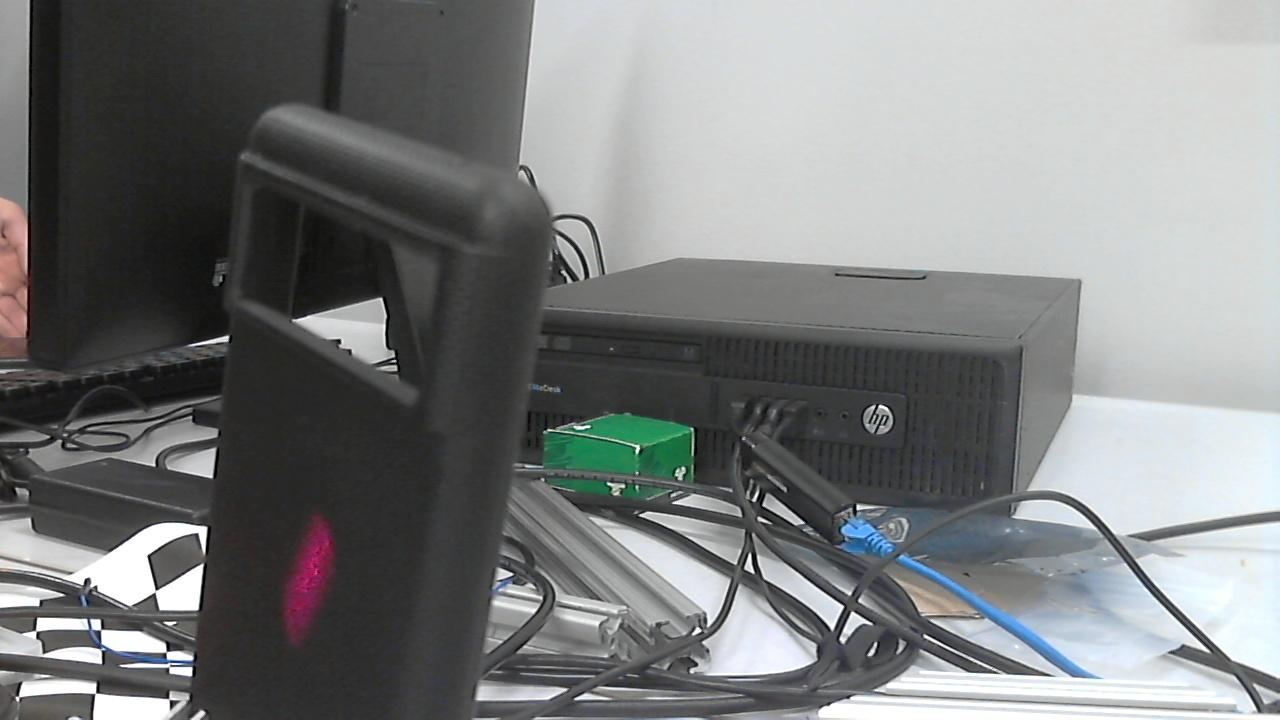Object protective phone case - Material plastic - Pdfname asdfeafgta: (276, 511, 342, 655)
